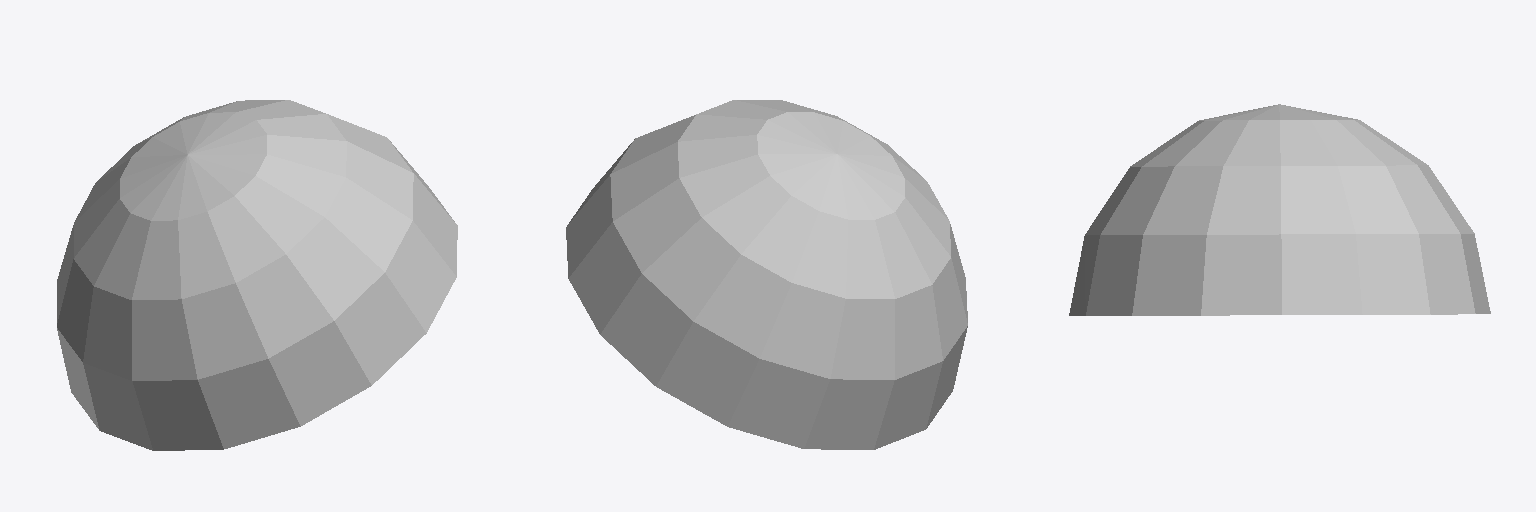
Rendered from RelojCampIzq_CatDog.obj.
3 views of the same model, side by side, from view 1: azimuth 30°, elevation 25°; view 2: azimuth 150°, elevation 25°; view 3: azimuth 270°, elevation 25° (orthographic).
Parts seen in each view (by area): view 1: polySurface1316 polySurface1313; view 2: polySurface1316 polySurface1313; view 3: polySurface1316 polySurface1313.
Boxes of the visible parts, x1=… form: polySurface1316 polySurface1313: x1=57, y1=100, x2=457, y2=450; polySurface1316 polySurface1313: x1=566, y1=100, x2=967, y2=449; polySurface1316 polySurface1313: x1=1069, y1=104, x2=1490, y2=315.
Bounding box in the file's own units: 0.2466 × 0.184 × 0.2588.